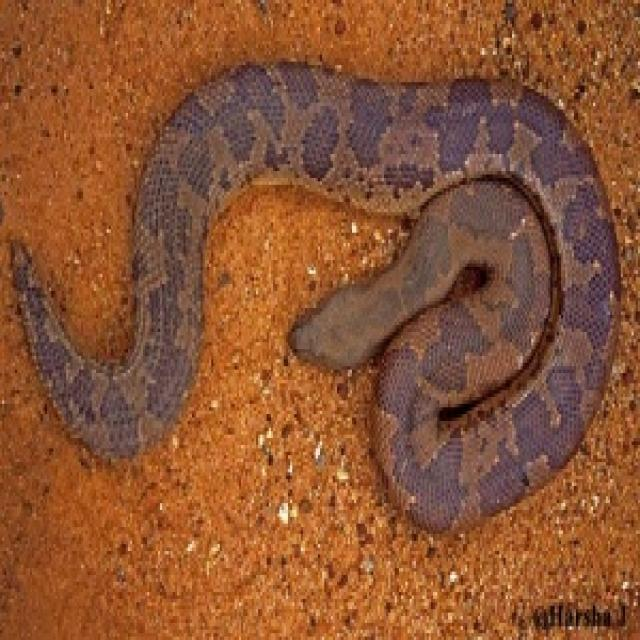Snake: (5, 55, 627, 542)
